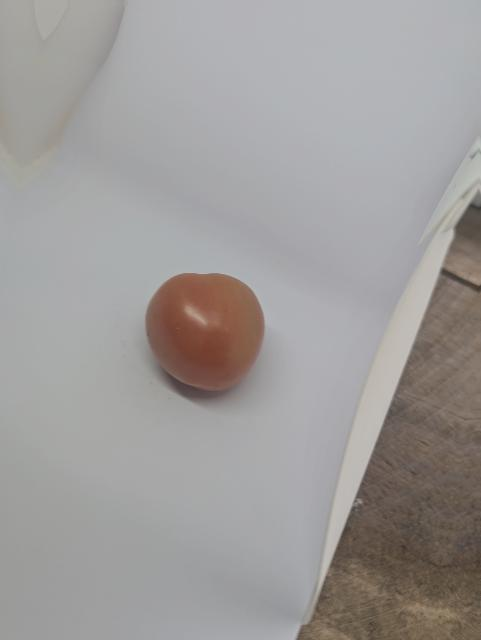red: (140, 267, 275, 399)
